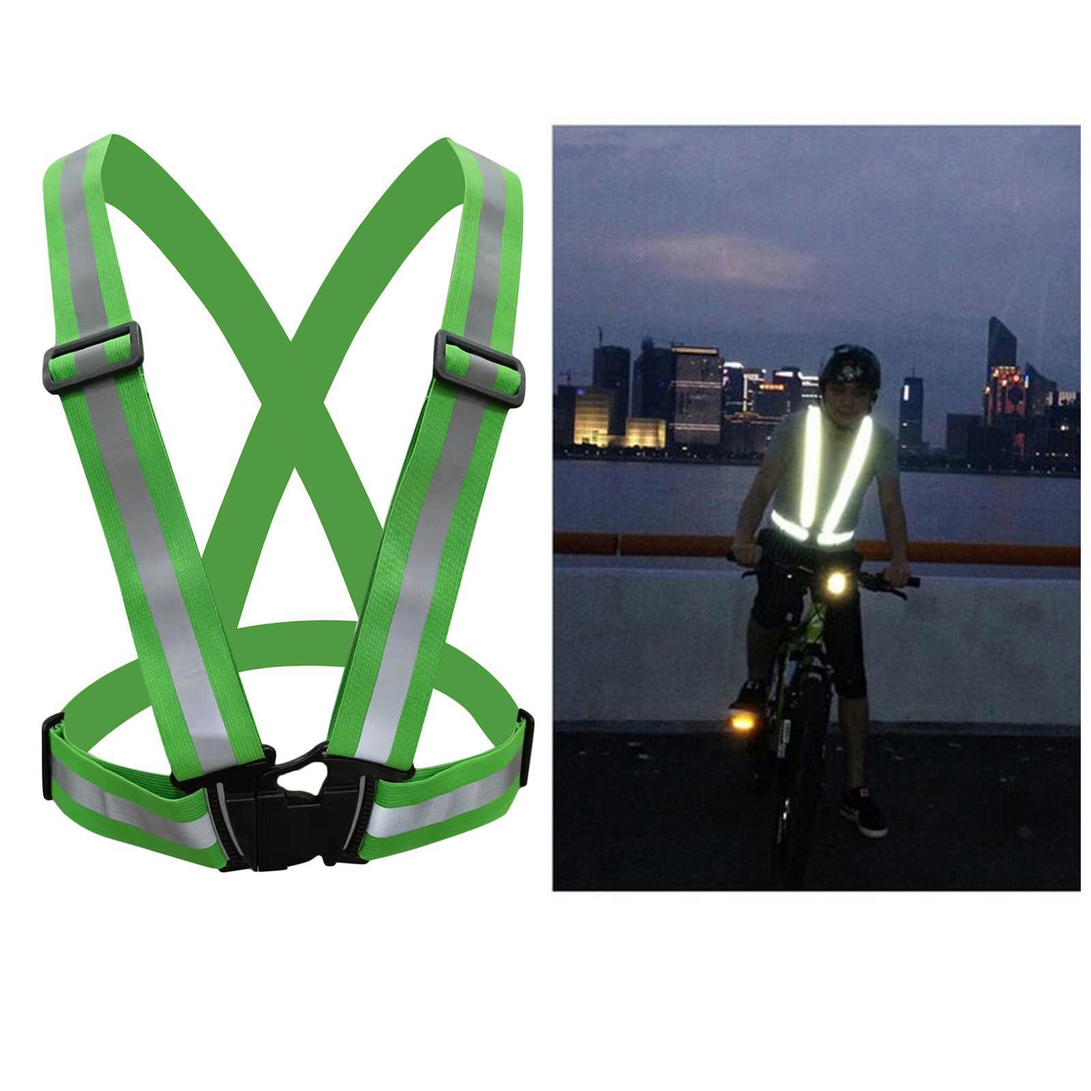Vest: (766, 411, 876, 551)
